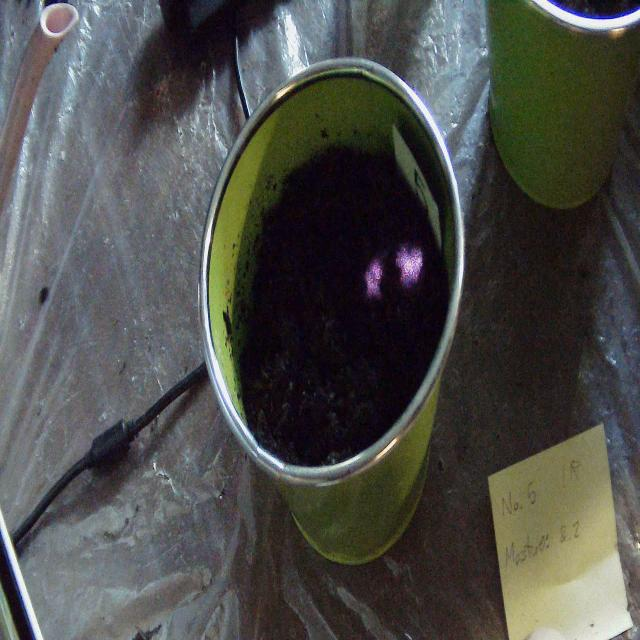soil-moisture-8.2: (364, 244, 423, 294)
